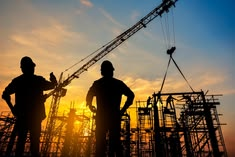crane: (45, 0, 213, 83)
hardhat: (96, 60, 119, 74), (18, 56, 40, 67)
person: (3, 55, 64, 153), (83, 55, 135, 155)
